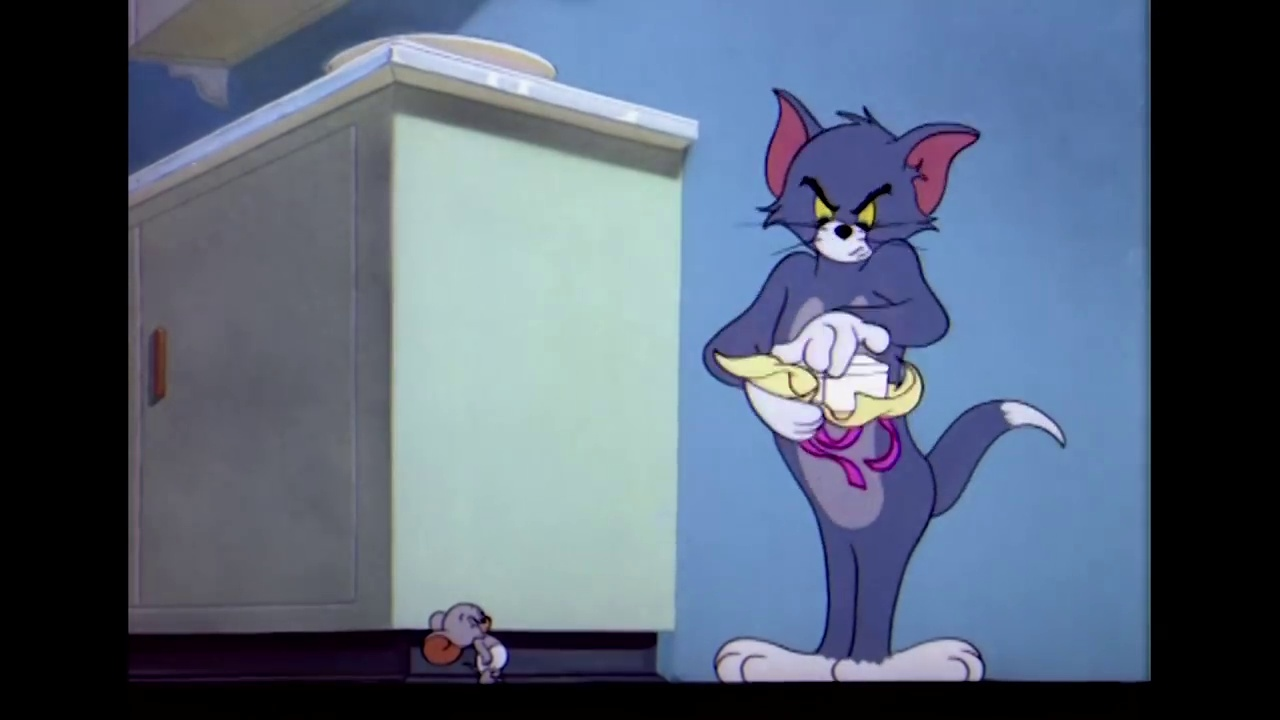tom: (750, 85, 982, 276)
